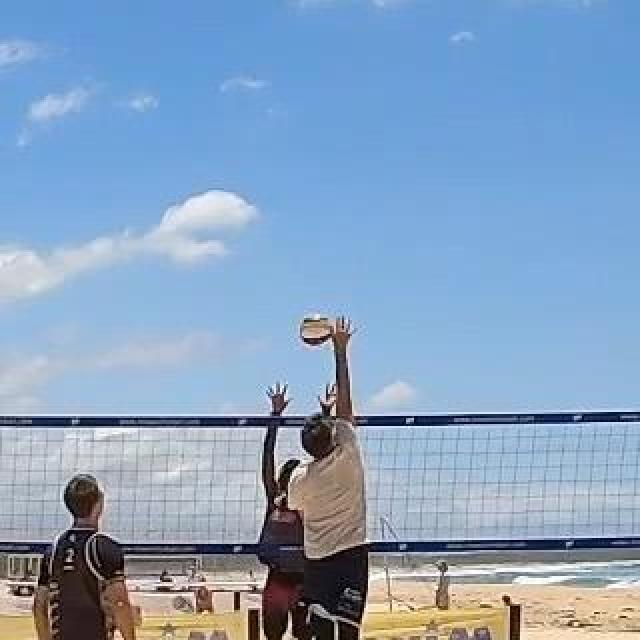volleyball: (301, 314, 333, 346)
